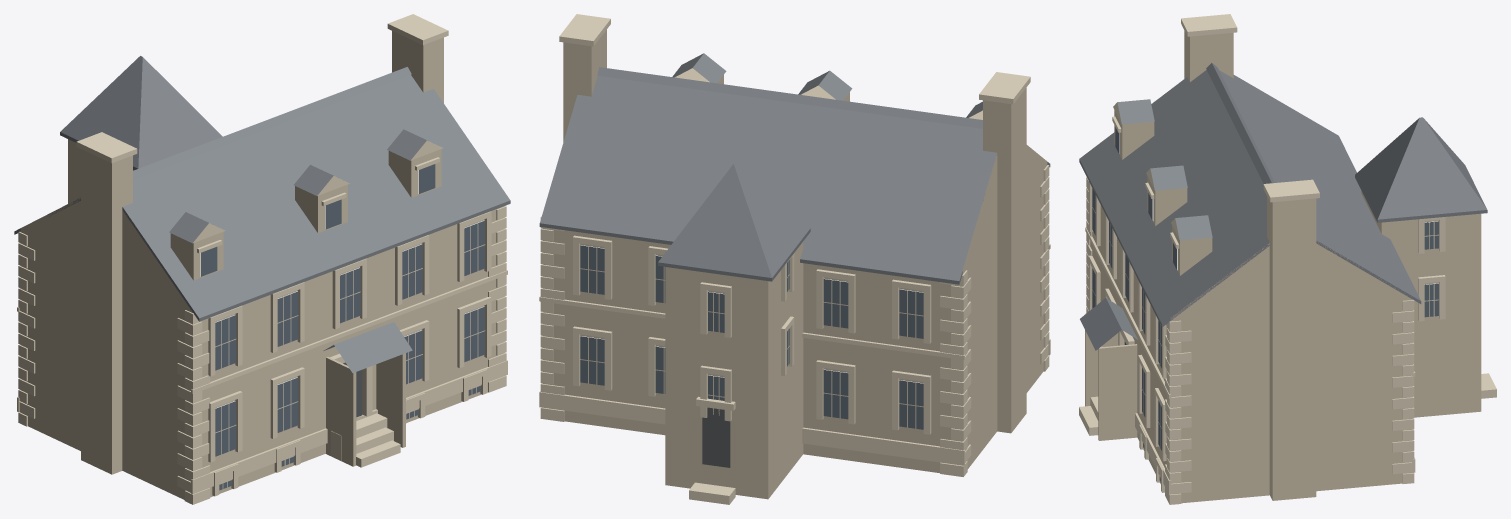
3 views of the same model, side by side, from view 1: azimuth 30°, elevation 25°; view 2: azimuth 150°, elevation 25°; view 3: azimuth 270°, elevation 25° (orthographic). The views are drawn at different scales.
Parts seen in each view (by area): view 1: ss_dk, slate, ss, window_glass_005, window_glass_004, window_glass_012, window_glass_001, window_glass_002, window_glass_007, window_glass_011, window_glass_008, window_glass_009; view 2: ss_dk, slate, ss, door_dark, window_glass_018, window_glass_019, window_glass_014, window_glass_020, window_glass_015, window_glass_021, window_glass_023; view 3: ss_dk, slate, ss, window_glass_024.
Boxes of the visible parts, left/top/right/bottom form: ss_dk: left=20, top=31, right=503, bottom=499; slate: left=14, top=56, right=510, bottom=372; ss: left=17, top=14, right=507, bottom=504; window_glass_005: left=277, top=377, right=298, bottom=432; window_glass_004: left=277, top=291, right=298, bottom=346; window_glass_012: left=464, top=306, right=484, bottom=362; window_glass_001: left=215, top=315, right=235, bottom=370; window_glass_002: left=215, top=401, right=235, bottom=456; window_glass_007: left=340, top=267, right=360, bottom=323; window_glass_011: left=464, top=220, right=484, bottom=275; window_glass_008: left=402, top=244, right=422, bottom=299; window_glass_009: left=404, top=330, right=422, bottom=384; ss_dk: left=542, top=29, right=1047, bottom=499; slate: left=539, top=53, right=1050, bottom=284; ss: left=539, top=14, right=1050, bottom=504; door_dark: left=702, top=407, right=730, bottom=467; window_glass_018: left=823, top=278, right=848, bottom=328; window_glass_019: left=823, top=369, right=848, bottom=419; window_glass_014: left=580, top=245, right=604, bottom=294; window_glass_020: left=899, top=289, right=923, bottom=338; window_glass_015: left=580, top=336, right=604, bottom=385; window_glass_021: left=899, top=380, right=923, bottom=429; window_glass_023: left=708, top=291, right=724, bottom=332; ss_dk: left=1085, top=31, right=1481, bottom=503; slate: left=1079, top=63, right=1487, bottom=350; ss: left=1079, top=14, right=1496, bottom=504; window_glass_024: left=1424, top=283, right=1438, bottom=317.
Bounding box in the file's own units: 15.05 × 11.29 × 14.02.
